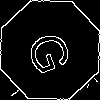G: (25, 25, 82, 78)
